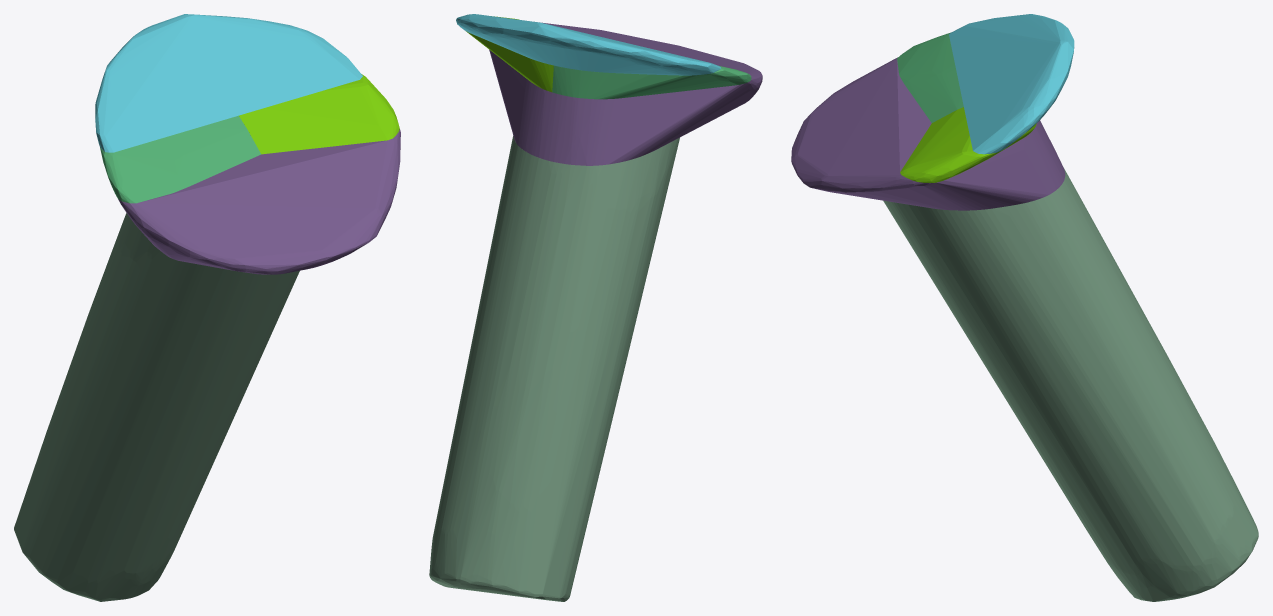
File: 0_decomposed.obj
3 views of the same model, side by side, from view 1: azimuth 30°, elevation 25°; view 2: azimuth 150°, elevation 25°; view 3: azimuth 270°, elevation 25° (orthographic). The views are drawn at different scales.
Visible parts, largest first — view 1: geometry_0, geometry_1, geometry_2, geometry_4, geometry_3; view 2: geometry_0, geometry_1, geometry_2, geometry_3, geometry_4; view 3: geometry_0, geometry_1, geometry_2, geometry_3, geometry_4.
Part boxes in pixels (x1=…): geometry_0: x1=14, y1=213, x2=299, y2=601; geometry_1: x1=118, y1=129, x2=400, y2=274; geometry_2: x1=95, y1=14, x2=362, y2=152; geometry_4: x1=239, y1=74, x2=399, y2=154; geometry_3: x1=100, y1=115, x2=261, y2=203; geometry_0: x1=429, y1=136, x2=679, y2=601; geometry_1: x1=489, y1=22, x2=762, y2=165; geometry_2: x1=456, y1=14, x2=721, y2=75; geometry_3: x1=552, y1=65, x2=751, y2=99; geometry_4: x1=466, y1=16, x2=553, y2=92; geometry_0: x1=883, y1=168, x2=1258, y2=601; geometry_1: x1=791, y1=57, x2=1065, y2=210; geometry_2: x1=949, y1=14, x2=1074, y2=154; geometry_3: x1=897, y1=32, x2=963, y2=122; geometry_4: x1=900, y1=107, x2=1036, y2=182.
Size of the model in its own units: 0.0909 by 0.1814 by 0.1378.
